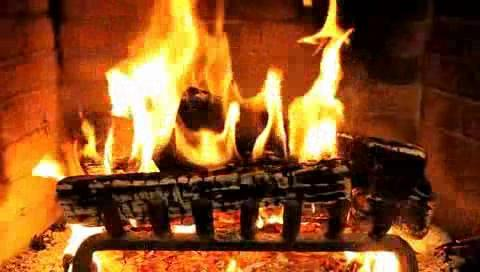fire: (106, 0, 344, 176)
